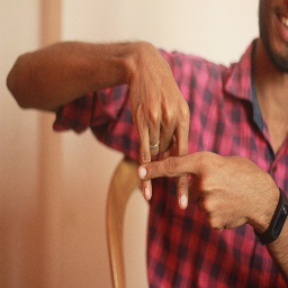H: (116, 107, 225, 213)
